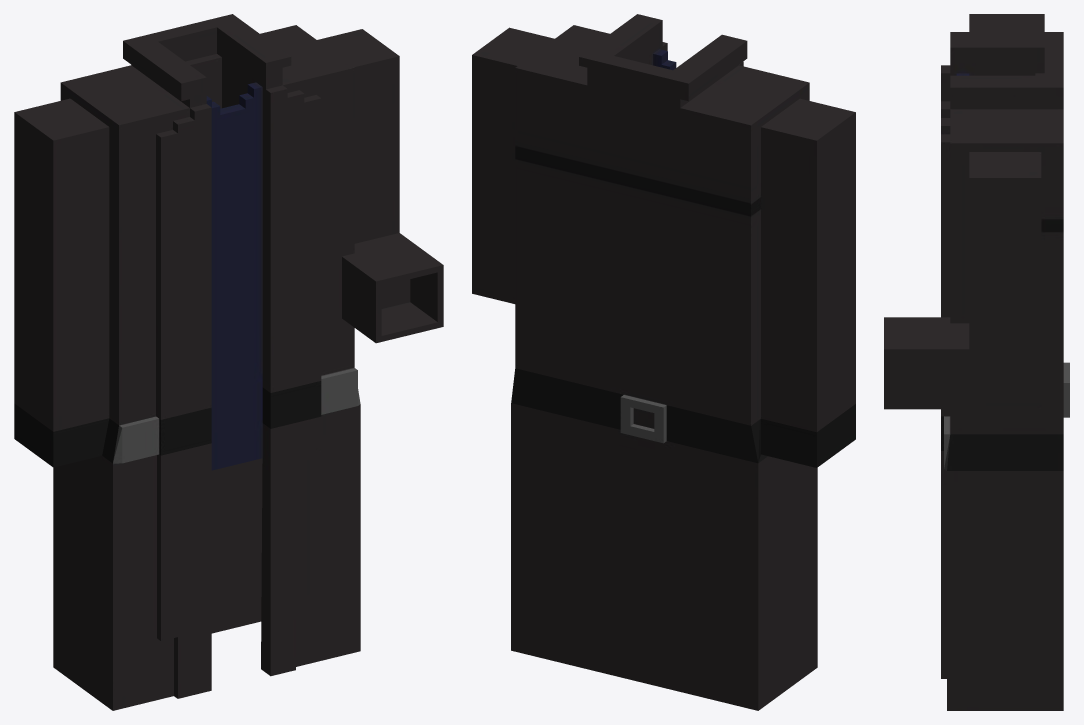
Rendered from trench.glb.
3 views of the same model, side by side, from view 1: azimuth 30°, elevation 25°; view 2: azimuth 150°, elevation 25°; view 3: azimuth 270°, elevation 25° (orthographic). The views are drawn at different scales.
Visible parts, largest first — view 1: LONG JACKET.vox.001; view 2: LONG JACKET.vox.001; view 3: LONG JACKET.vox.001.
Boxes of the visible parts, <box> form: LONG JACKET.vox.001: <box>14,14,443,710</box>; LONG JACKET.vox.001: <box>472,14,855,710</box>; LONG JACKET.vox.001: <box>884,14,1069,710</box>.
Size of the model in its own units: 4.1 by 6.9 by 1.97.
1 material, 1 textured.
